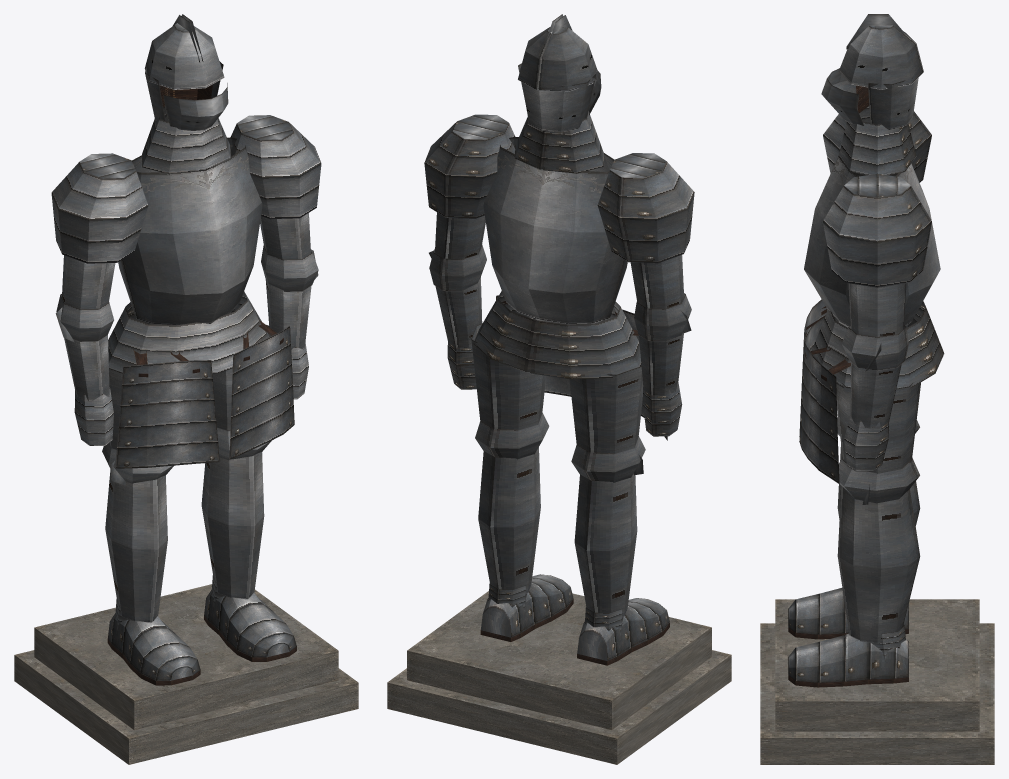
Rendered from level_castle_armour_display.glb.
The picture shows the model from 3 angles, left to right: view 1: azimuth 30°, elevation 25°; view 2: azimuth 150°, elevation 25°; view 3: azimuth 270°, elevation 25°; orthographic projection. The views are drawn at different scales.
Parts seen in each view (by area): view 1: Museum harness / low-poly silhouette and painted articulatio; view 2: Museum harness / low-poly silhouette and painted articulatio; view 3: Museum harness / low-poly silhouette and painted articulatio.
Part boxes in pixels (x1,y1,x2,y2): Museum harness / low-poly silhouette and painted articulatio: [14, 14, 358, 764]; Museum harness / low-poly silhouette and painted articulatio: [387, 14, 731, 764]; Museum harness / low-poly silhouette and painted articulatio: [760, 14, 994, 764].
Bounding box in the file's own units: 0.82 × 2.06 × 0.63.
Materials: 1 (1 with a texture image).
